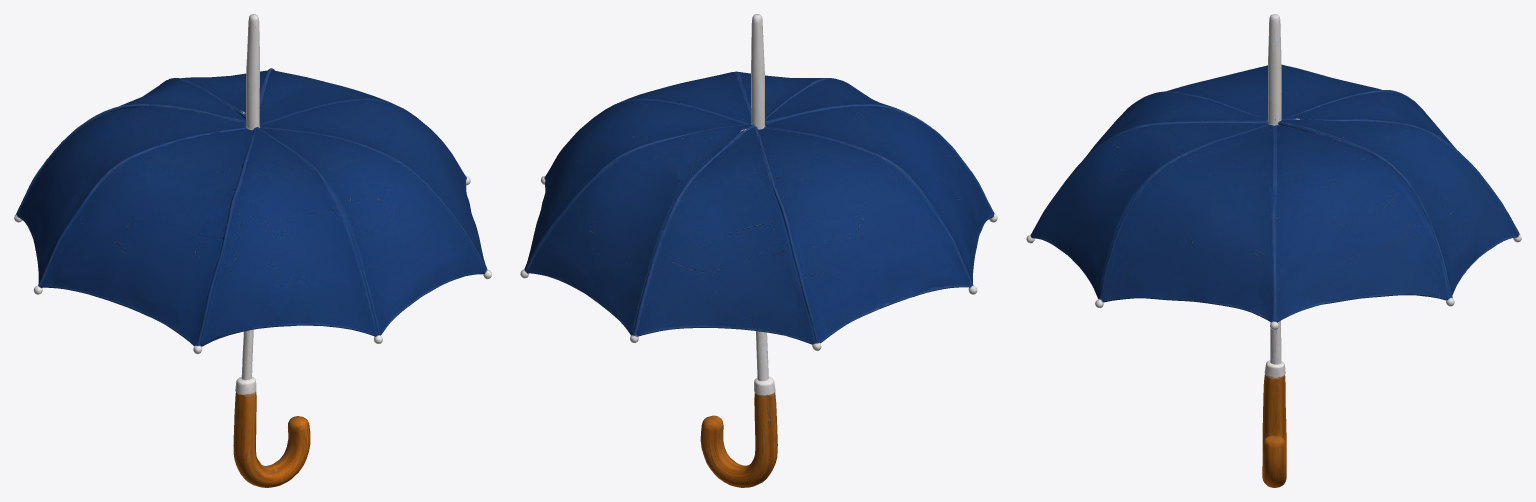
The model's file is umbrella.glb.
3 views of the same model, side by side, from view 1: azimuth 30°, elevation 25°; view 2: azimuth 150°, elevation 25°; view 3: azimuth 270°, elevation 25° (orthographic). The views are drawn at different scales.
Parts seen in each view (by area): view 1: canopy, handle, frame; view 2: canopy, handle, frame; view 3: canopy, handle, frame.
Part boxes in pixels (x1,y1,x2,y2): canopy: (16, 68, 487, 346); handle: (233, 391, 310, 487); frame: (14, 14, 491, 394); canopy: (524, 71, 994, 344); handle: (700, 392, 777, 487); frame: (520, 14, 997, 395); canopy: (1030, 64, 1519, 322); handle: (1262, 374, 1286, 487); frame: (1026, 14, 1521, 377).
Bounding box in the file's own units: 1.82 × 1.9 × 1.85.
3 materials, 3 textured.
